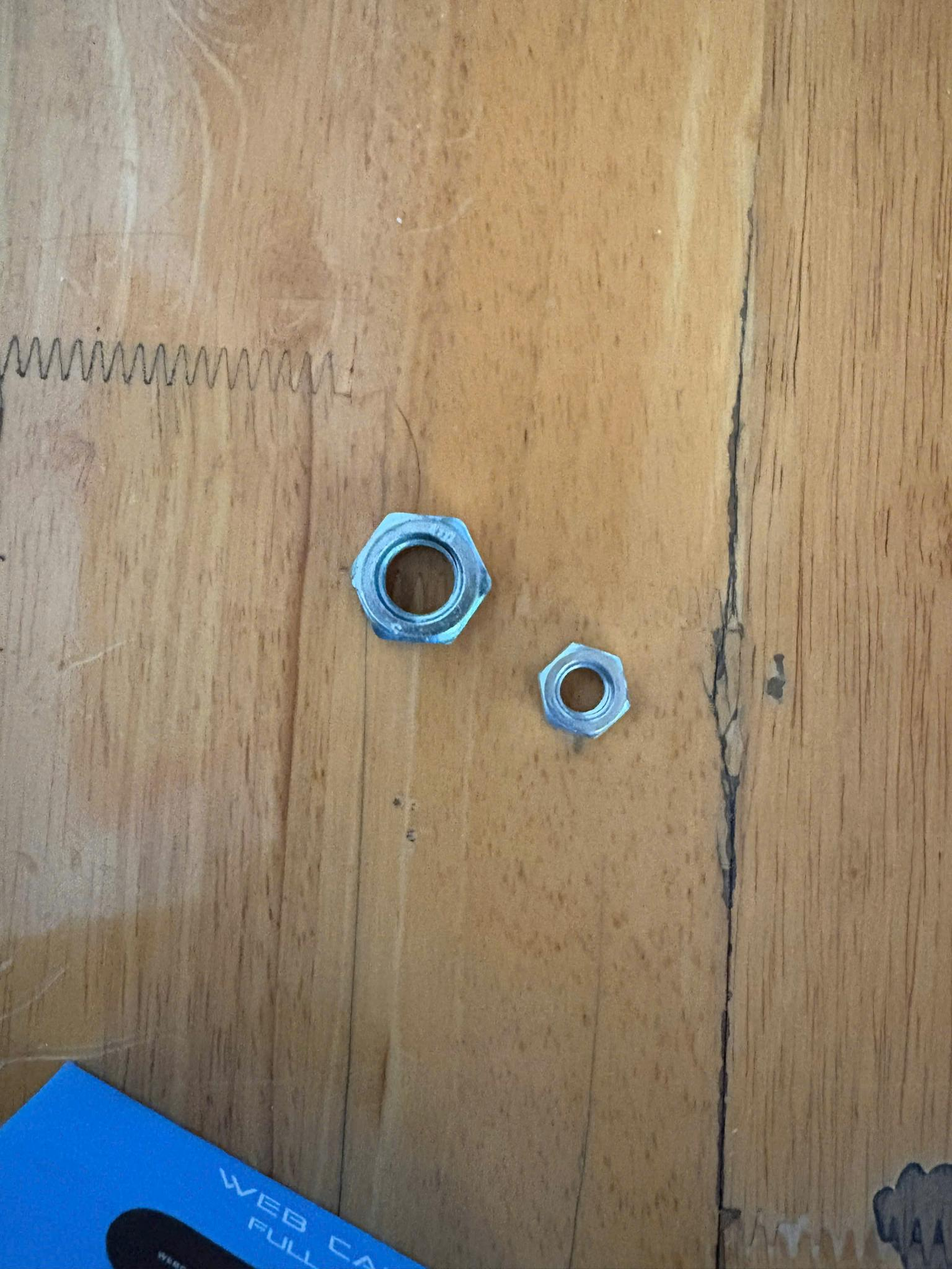nut: (337, 499, 510, 678), (526, 642, 647, 750)
